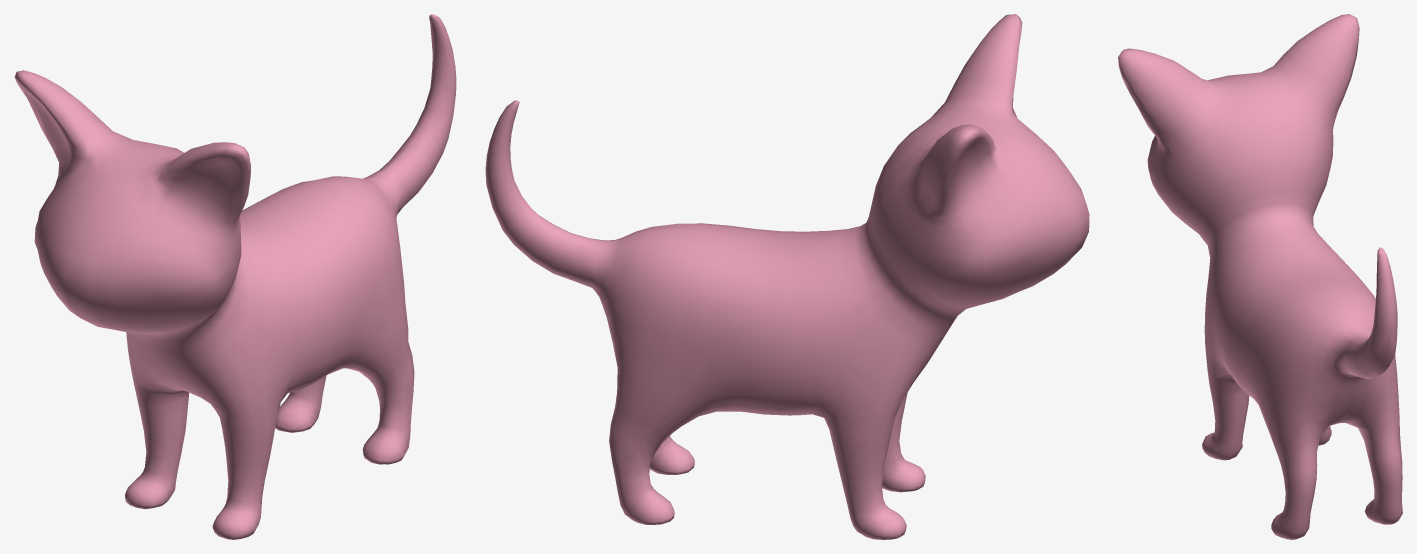
The model's file is pinkCat.glb.
3 renders of one model, left to right at view 1: azimuth 30°, elevation 25°; view 2: azimuth 150°, elevation 25°; view 3: azimuth 270°, elevation 25°, orthographic. The views are drawn at different scales.
Parts seen in each view (by area): view 1: mesh_id6; view 2: mesh_id6; view 3: mesh_id6.
Part boxes in pixels (x1,y1,x2,y2): mesh_id6: (14,14,456,539); mesh_id6: (485,14,1089,539); mesh_id6: (1118,14,1402,539).
Bounding box in the file's own units: 0.4344 × 0.3704 × 0.2517.
1 material, 1 textured.
